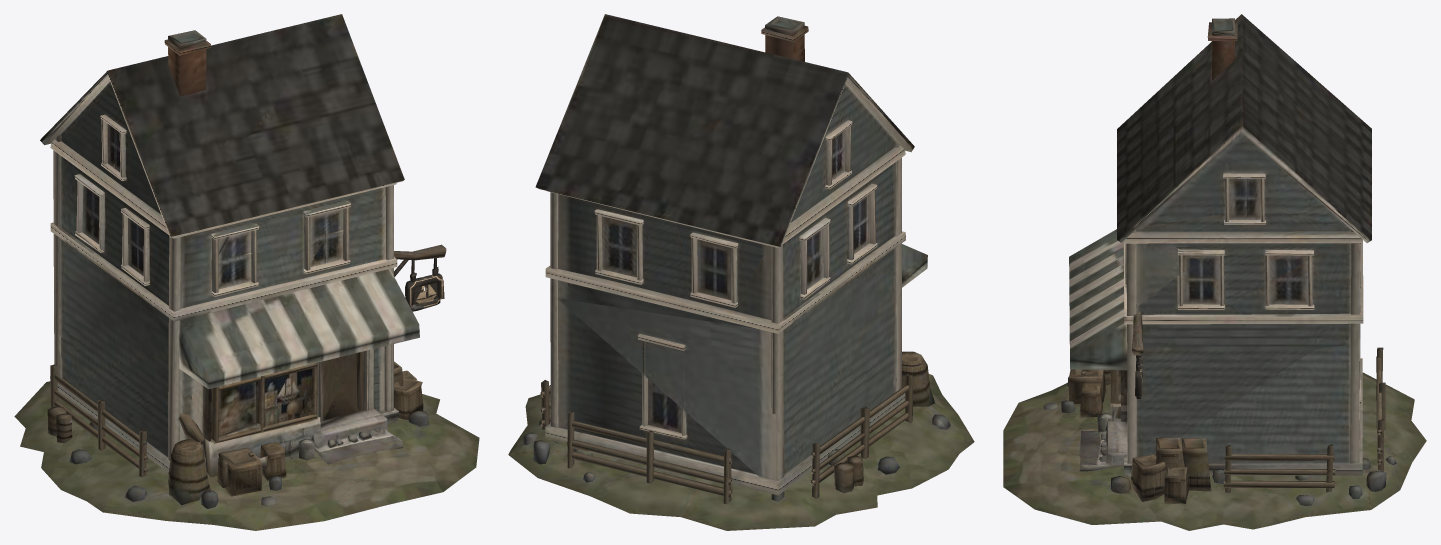
File: storefront_1.glb
The picture shows the model from 3 angles, left to right: view 1: azimuth 30°, elevation 25°; view 2: azimuth 150°, elevation 25°; view 3: azimuth 270°, elevation 25°; orthographic projection. The views are drawn at different scales.
Visible parts, largest first — view 1: Storefront1Mesh; view 2: Storefront1Mesh; view 3: Storefront1Mesh.
Boxes of the visible parts, x1=… form: Storefront1Mesh: x1=14, y1=14, x2=479, y2=530; Storefront1Mesh: x1=508, y1=14, x2=974, y2=530; Storefront1Mesh: x1=1003, y1=14, x2=1426, y2=530.
Bounding box in the file's own units: 1.93 × 2 × 1.94.
Materials: 1 (1 with a texture image).
